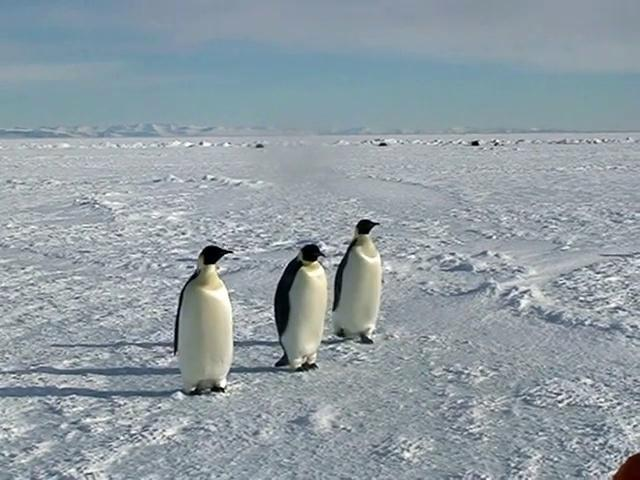animal: (334, 221, 384, 340)
